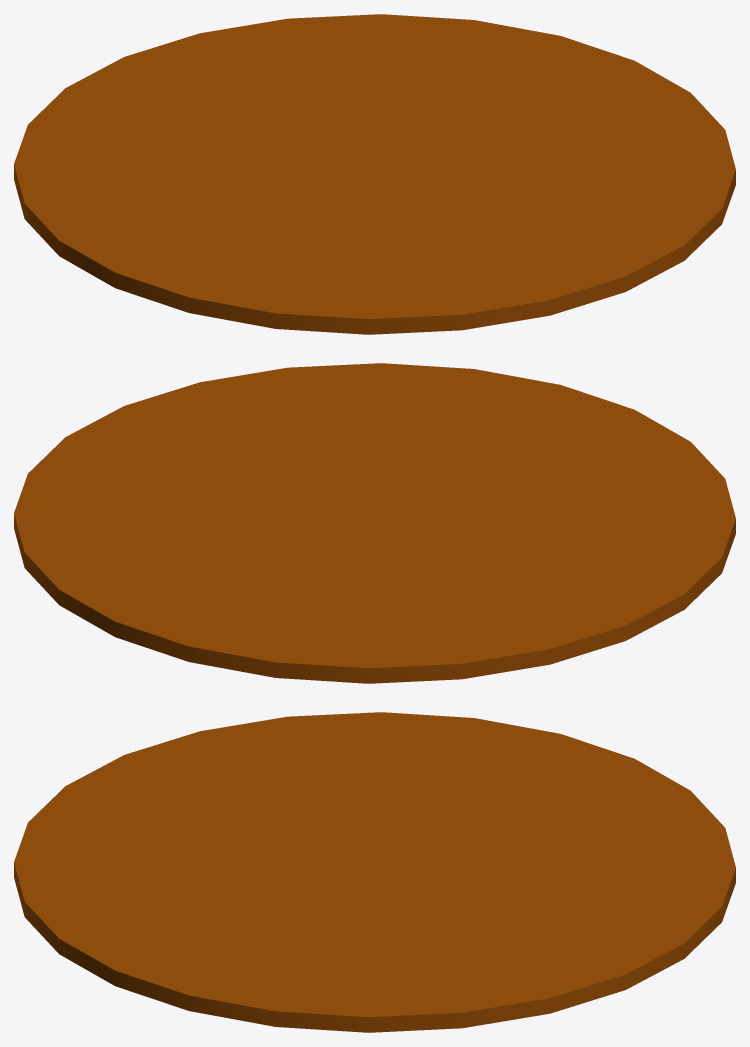
Rendered from Coaster.fbx.
3 views of the same model, one above another, from view 1: azimuth 30°, elevation 25°; view 2: azimuth 150°, elevation 25°; view 3: azimuth 270°, elevation 25° (orthographic).
Visible parts, largest first — view 1: Model; view 2: Model; view 3: Model.
Part boxes in pixels (bbox=[...]): Model: bbox=[14, 14, 735, 334]; Model: bbox=[14, 363, 735, 683]; Model: bbox=[14, 712, 735, 1032].
Size of the model in its own units: 155 by 3.69 by 155.
